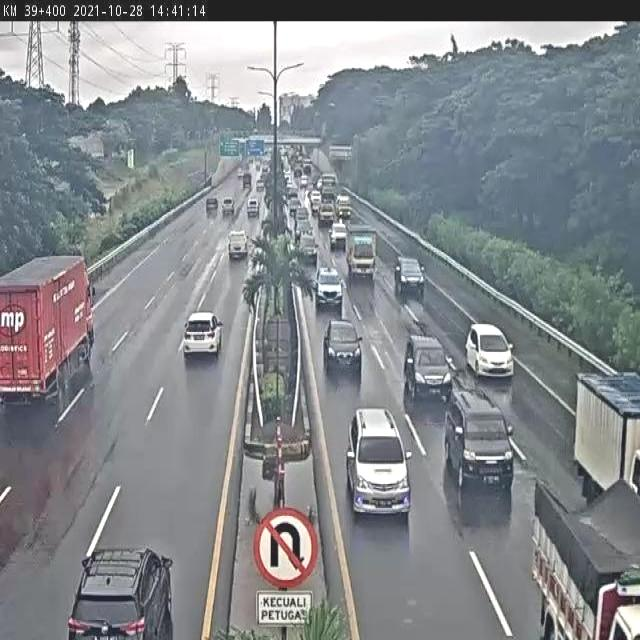Car: (72, 541, 174, 640), (342, 404, 417, 519), (447, 387, 517, 504), (403, 327, 455, 407), (322, 315, 364, 380), (462, 322, 513, 371), (176, 311, 222, 363), (314, 261, 346, 309), (394, 253, 427, 298), (225, 228, 249, 259)
Truck: (527, 464, 640, 640), (0, 246, 99, 408), (571, 360, 640, 501), (346, 222, 381, 282)
